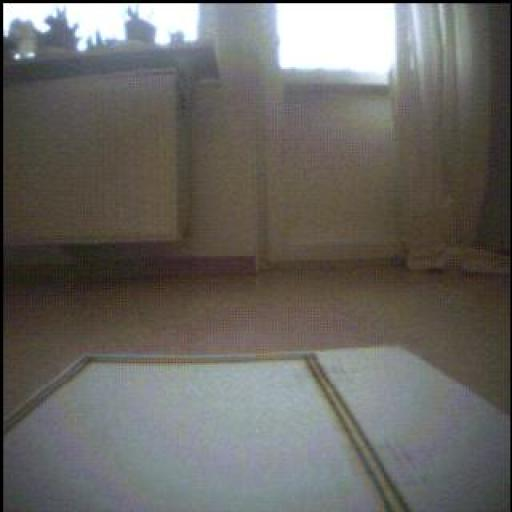Pad: (5, 348, 512, 512), (4, 355, 409, 512)
